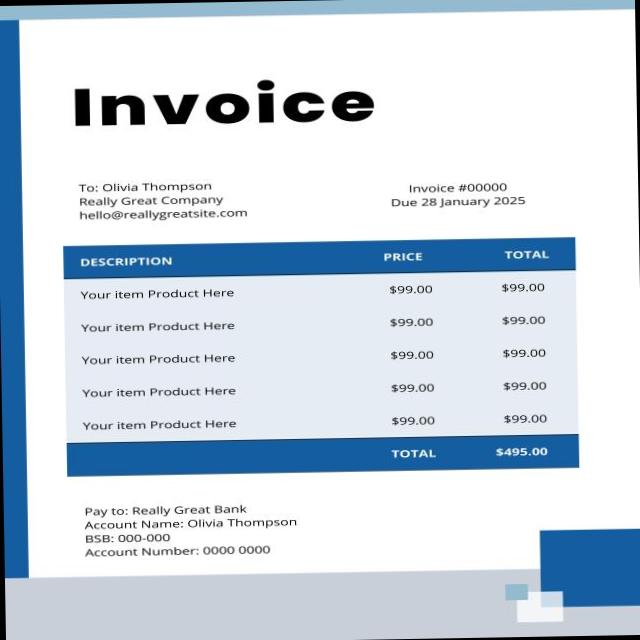customer_address: (74, 190, 228, 210)
customer_name: (99, 179, 219, 193)
invoice_date: (387, 195, 534, 212)
invoice_number: (454, 178, 512, 197)
invoice_total: (484, 441, 552, 462)
item_description: (68, 279, 253, 436)
item_total_price: (494, 276, 553, 431)
item_unit_price: (379, 279, 439, 431)
